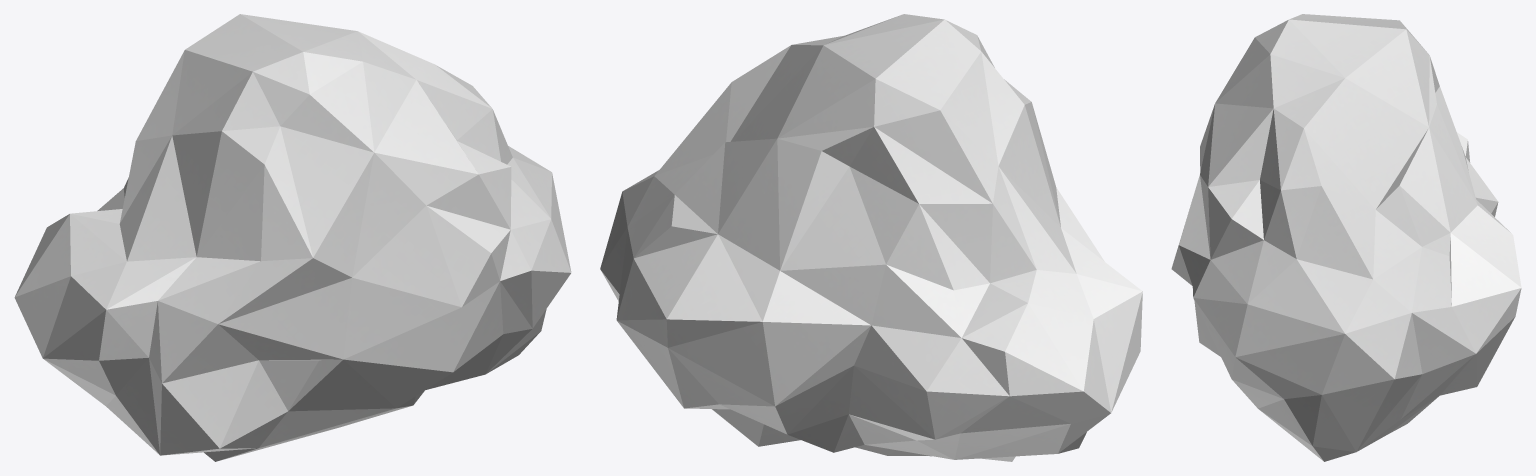
Rendered from Cloud_2.fbx.
3 views of the same model, side by side, from view 1: azimuth 30°, elevation 25°; view 2: azimuth 150°, elevation 25°; view 3: azimuth 270°, elevation 25° (orthographic). The views are drawn at different scales.
Parts seen in each view (by area): view 1: Group32355; view 2: Group32355; view 3: Group32355.
Part boxes in pixels (x1,y1,x2,y2): Group32355: (14,14,571,461); Group32355: (600,14,1142,461); Group32355: (1171,14,1521,461).
Bounding box in the file's own units: 669 × 529 × 457.
